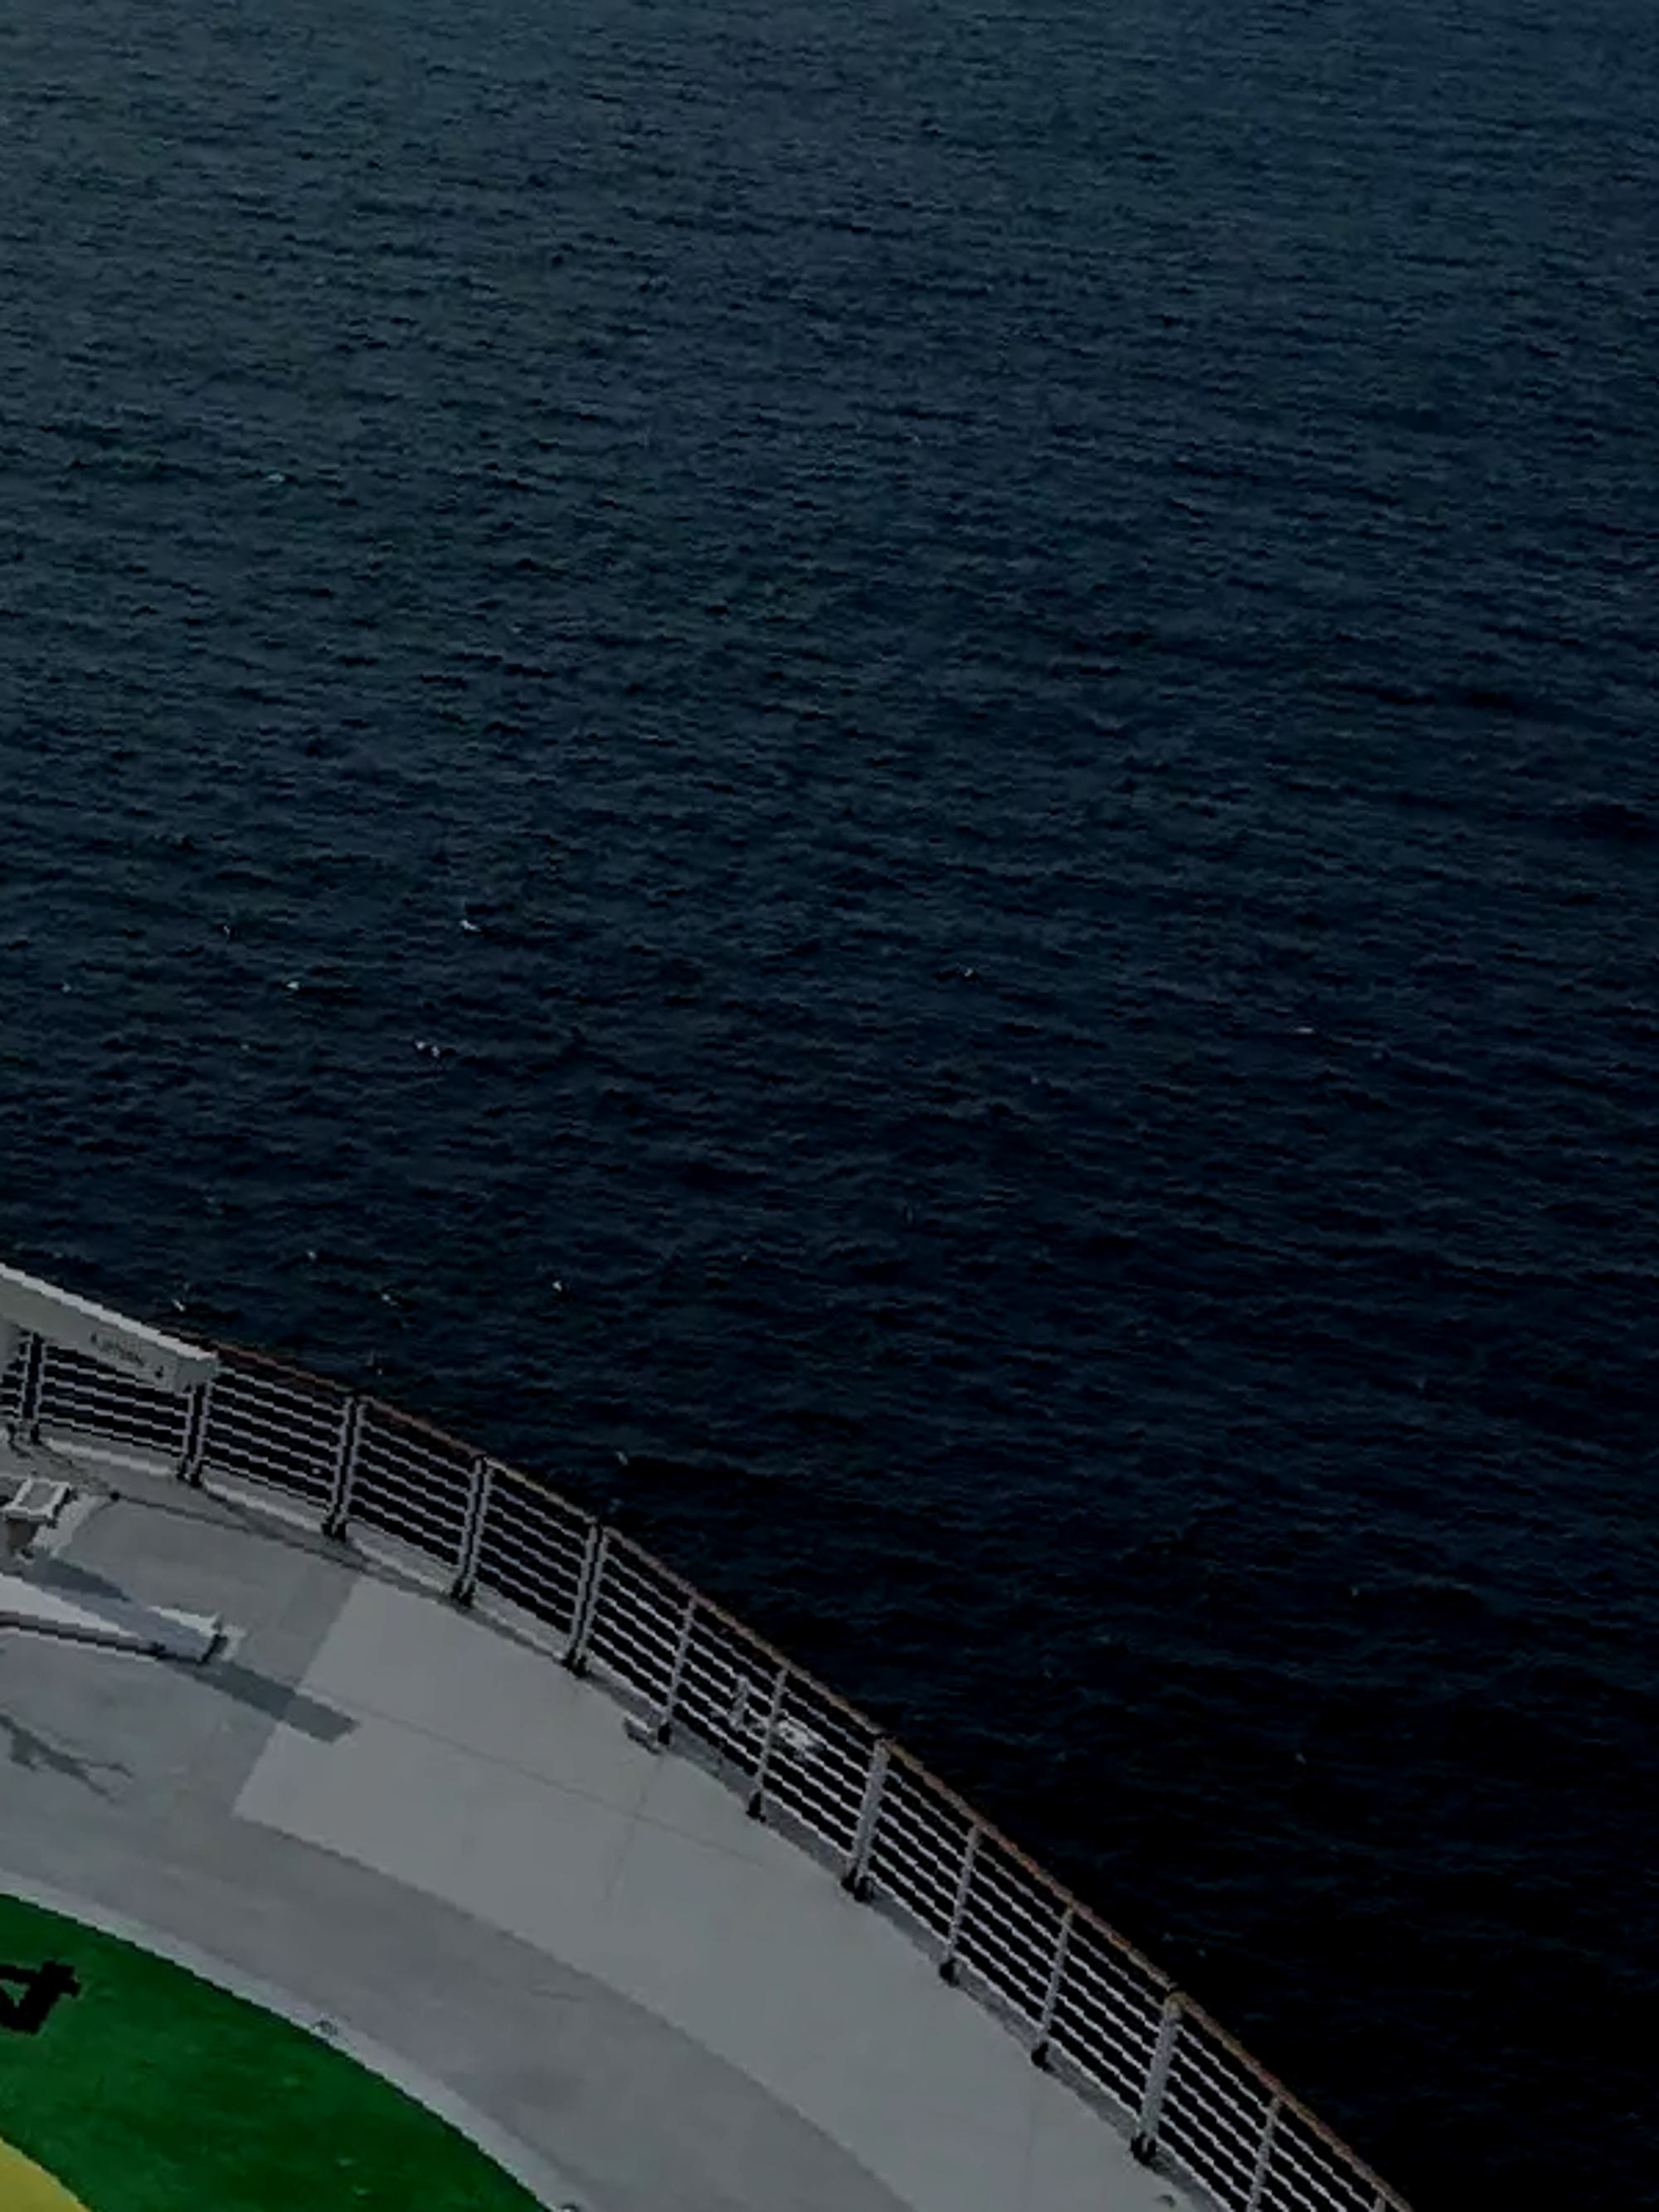Apron: (7, 2107, 204, 2212)
